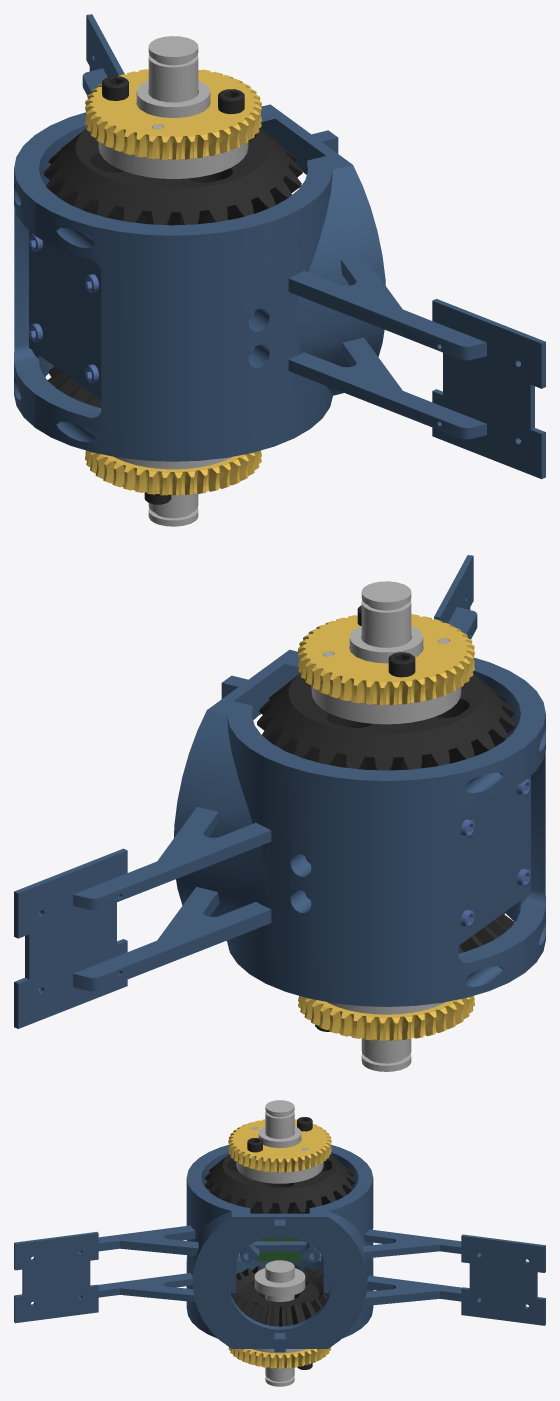
The model's file is arm_d.glb.
3 views of the same model, one above another, from view 1: azimuth 30°, elevation 25°; view 2: azimuth 150°, elevation 25°; view 3: azimuth 270°, elevation 25° (orthographic). The views are drawn at different scales.
Parts seen in each view (by area): view 1: 112619_A;1-MRVR26.RA.DE.CAMERA_MOUNT.001; view 2: 112619_A;1-MRVR26.RA.DE.CAMERA_MOUNT.001; view 3: 112619_A;1-MRVR26.RA.DE.CAMERA_MOUNT.001.
Boxes of the visible parts, x1,y1,x2,y2 form: 112619_A;1-MRVR26.RA.DE.CAMERA_MOUNT.001: [14, 14, 545, 526]; 112619_A;1-MRVR26.RA.DE.CAMERA_MOUNT.001: [14, 555, 545, 1071]; 112619_A;1-MRVR26.RA.DE.CAMERA_MOUNT.001: [14, 1100, 545, 1386].
Size of the model in its own units: 8.76 by 13.19 by 23.2.
